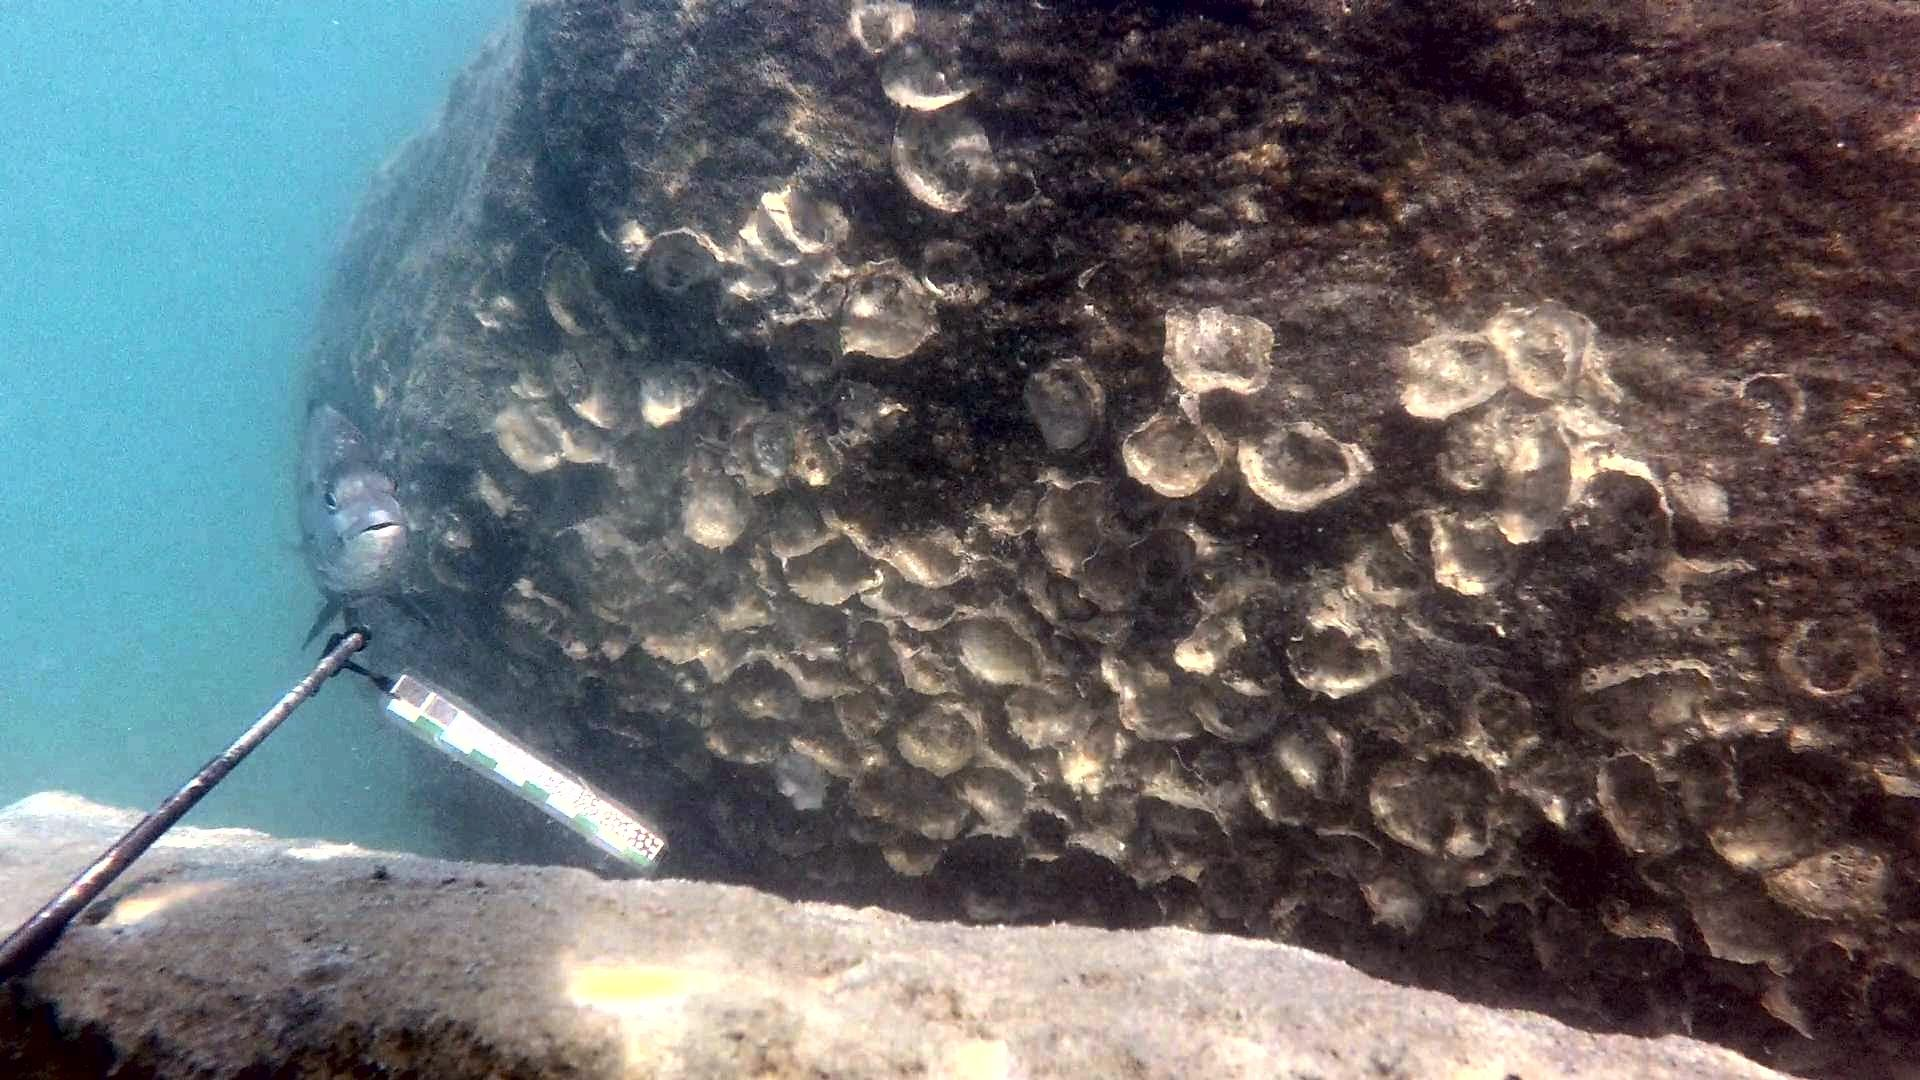acanthopagrus palmaris: (276, 380, 451, 657)
